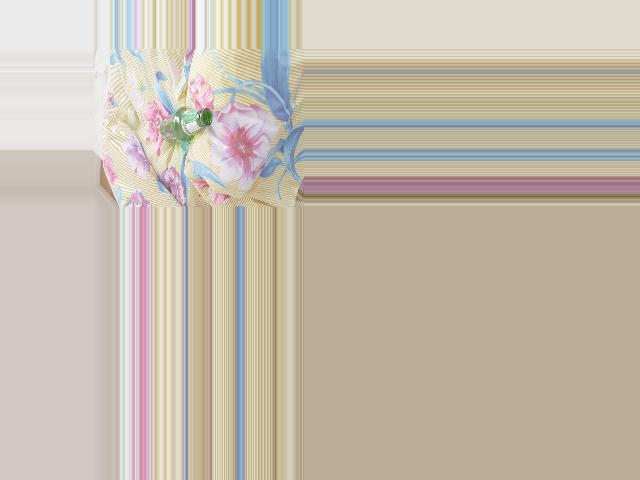beer: (160, 107, 212, 141)
